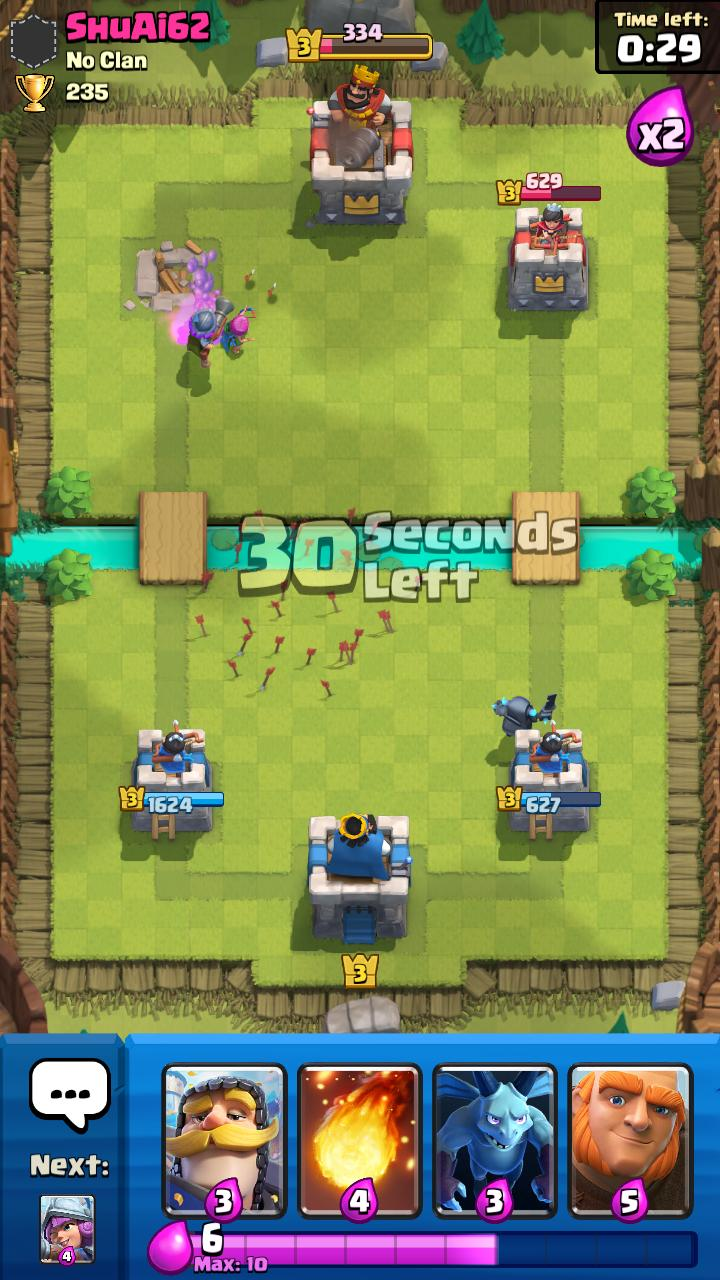ally: (187, 297, 235, 368), (491, 694, 557, 737), (220, 305, 256, 354)
